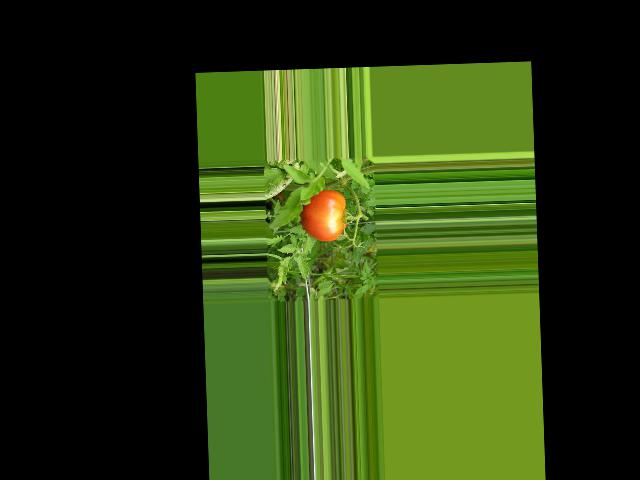tomato: (300, 189, 347, 242)
